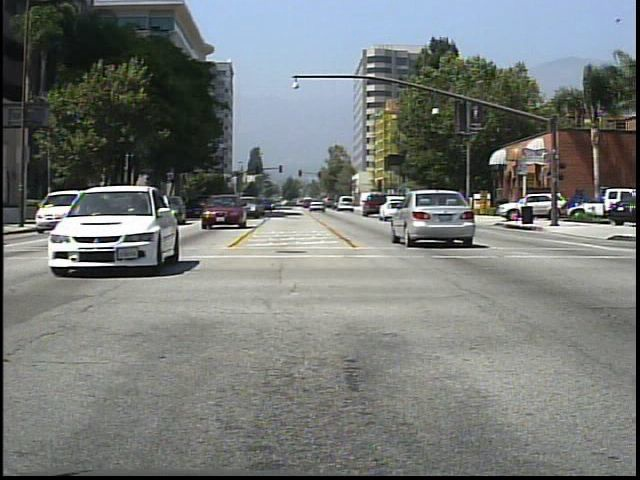person: (431, 190, 448, 220), (462, 190, 477, 222)
